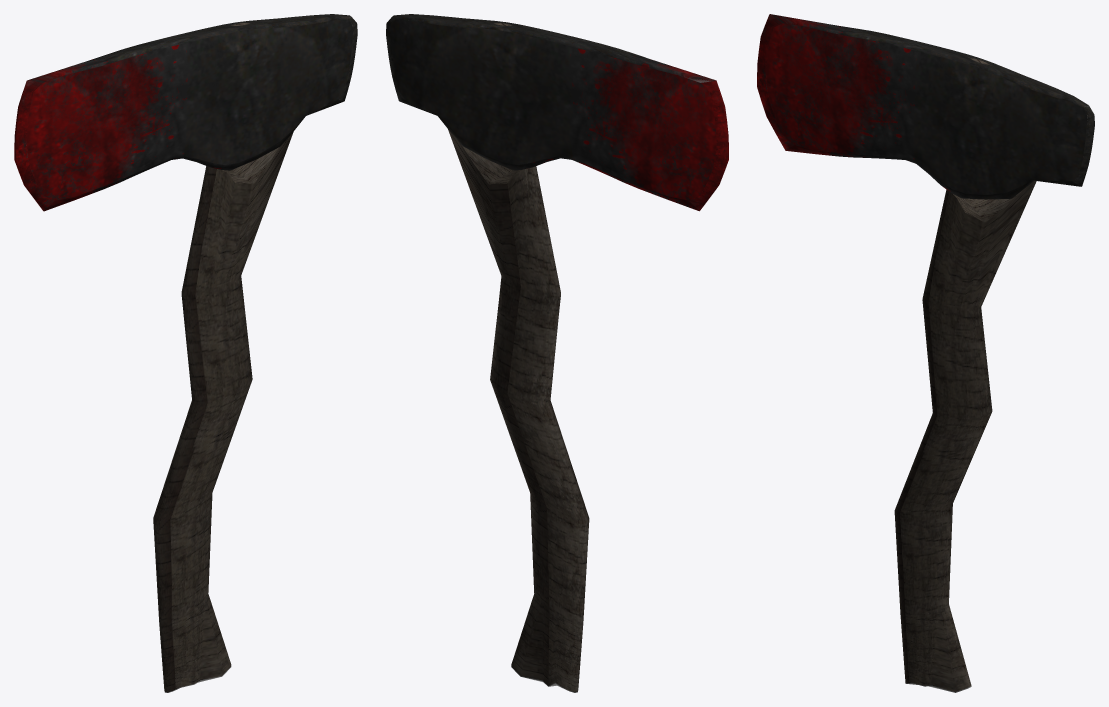
Rendered from axe.DAE.
3 renders of one model, left to right at view 1: azimuth 30°, elevation 25°; view 2: azimuth 150°, elevation 25°; view 3: azimuth 330°, elevation 25°, orthographic.
Parts seen in each view (by area): view 1: Box01, Cylinder01; view 2: Box01, Cylinder01; view 3: Box01, Cylinder01.
Boxes of the visible parts, x1,y1,x2,y2 form: Box01: (14, 14, 357, 211); Cylinder01: (153, 132, 293, 692); Box01: (386, 14, 728, 211); Cylinder01: (448, 129, 589, 692); Box01: (757, 14, 1094, 199); Cylinder01: (894, 180, 1036, 692).
Bounding box in the file's own units: 70.13 × 5.51 × 128.
